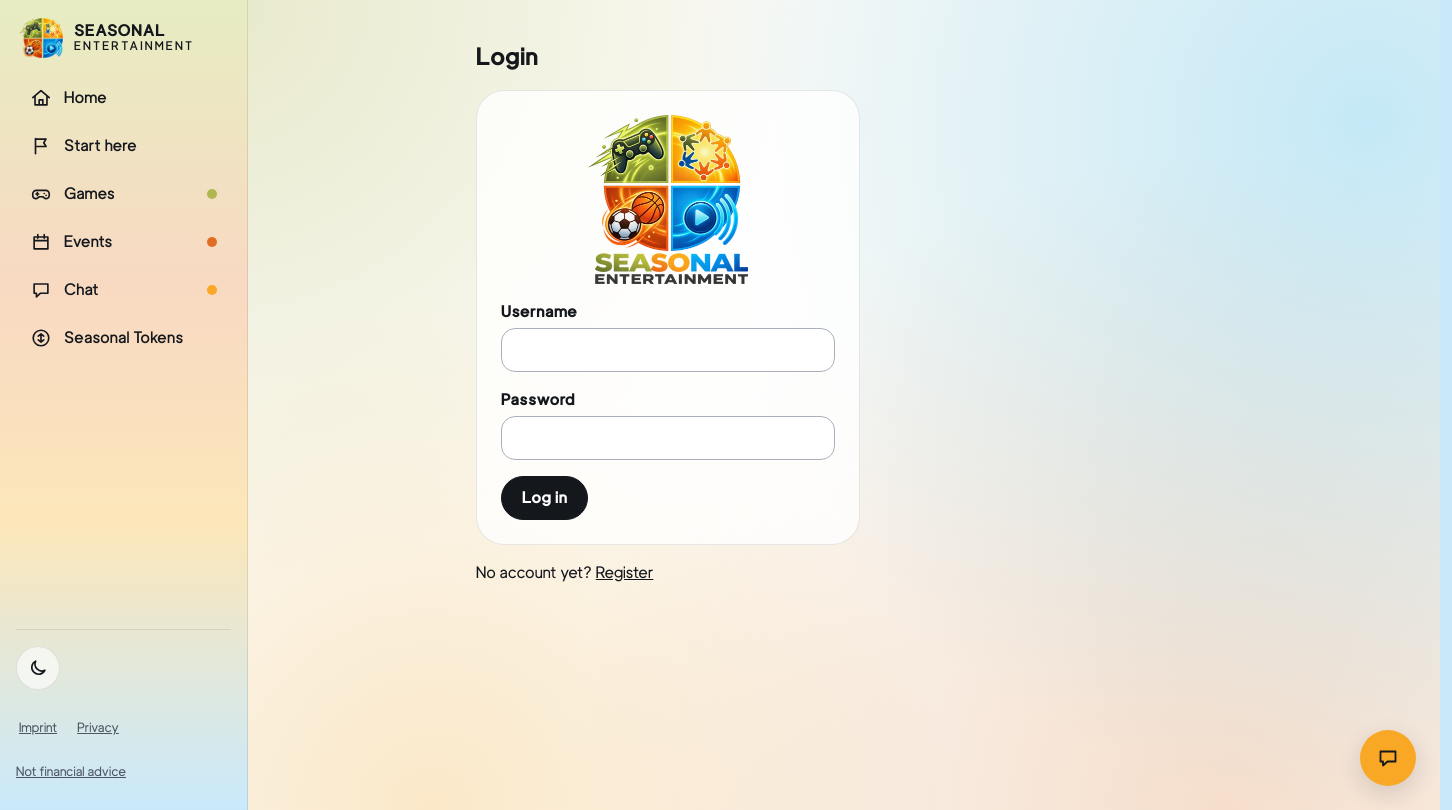
Test: 2FA for every member › a member who need not goes back where they came from
Type "mia" into the field labelled "Username" at (668, 350), box [501,328,835,372]
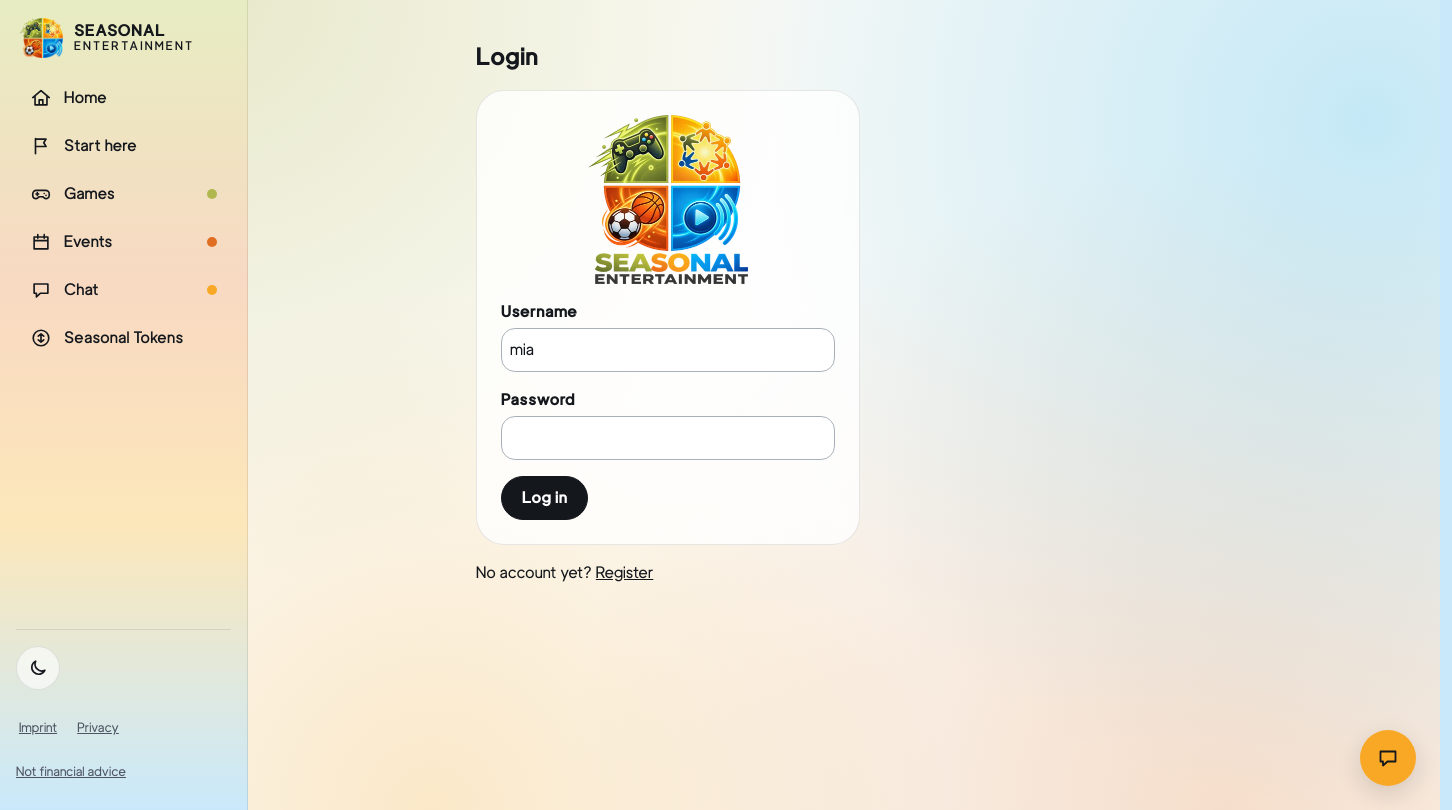
Type "correct-horse-1" into the password field labelled "Password" at (668, 438), box [501,416,835,460]
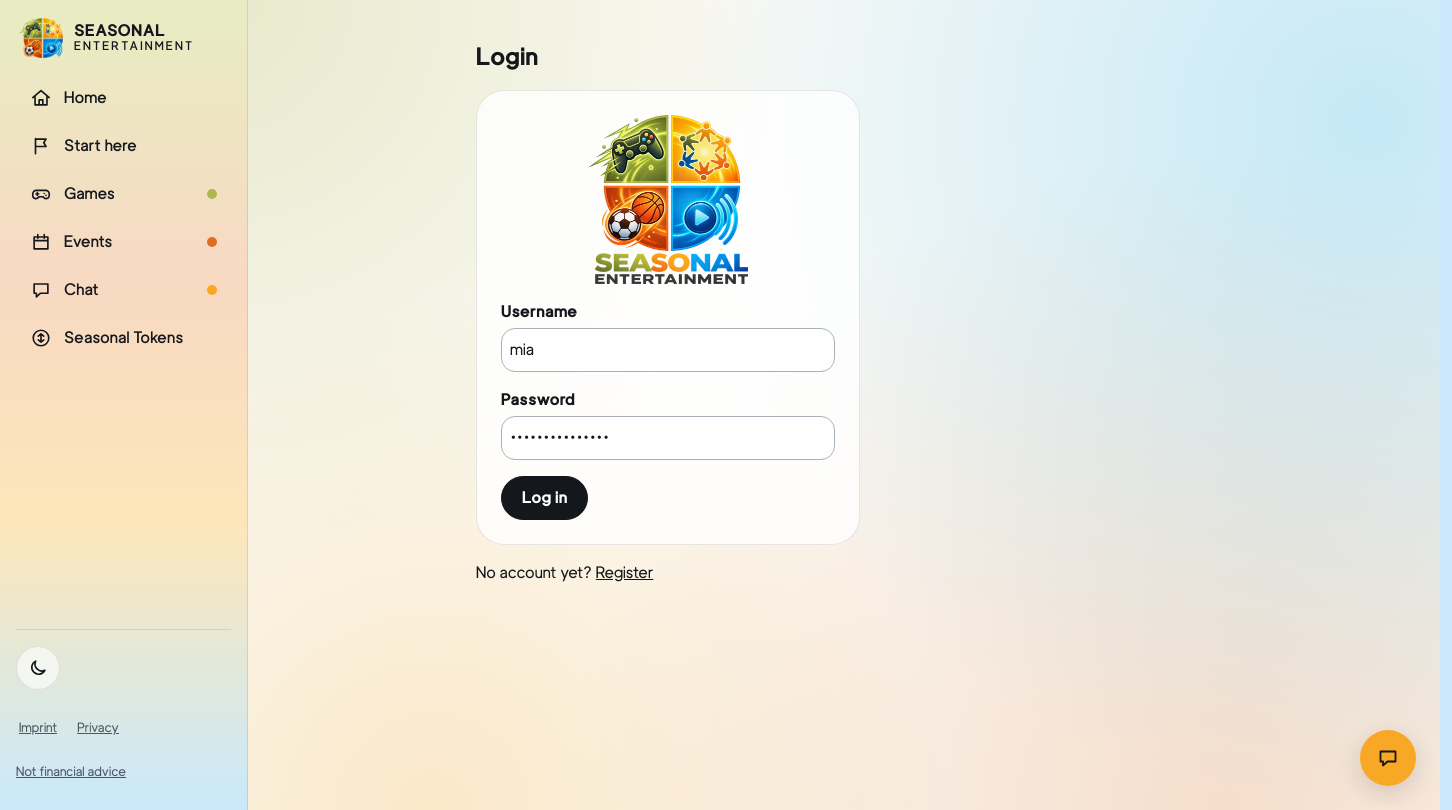
Click the button "Log in" at (545, 498), box [501,476,588,520]
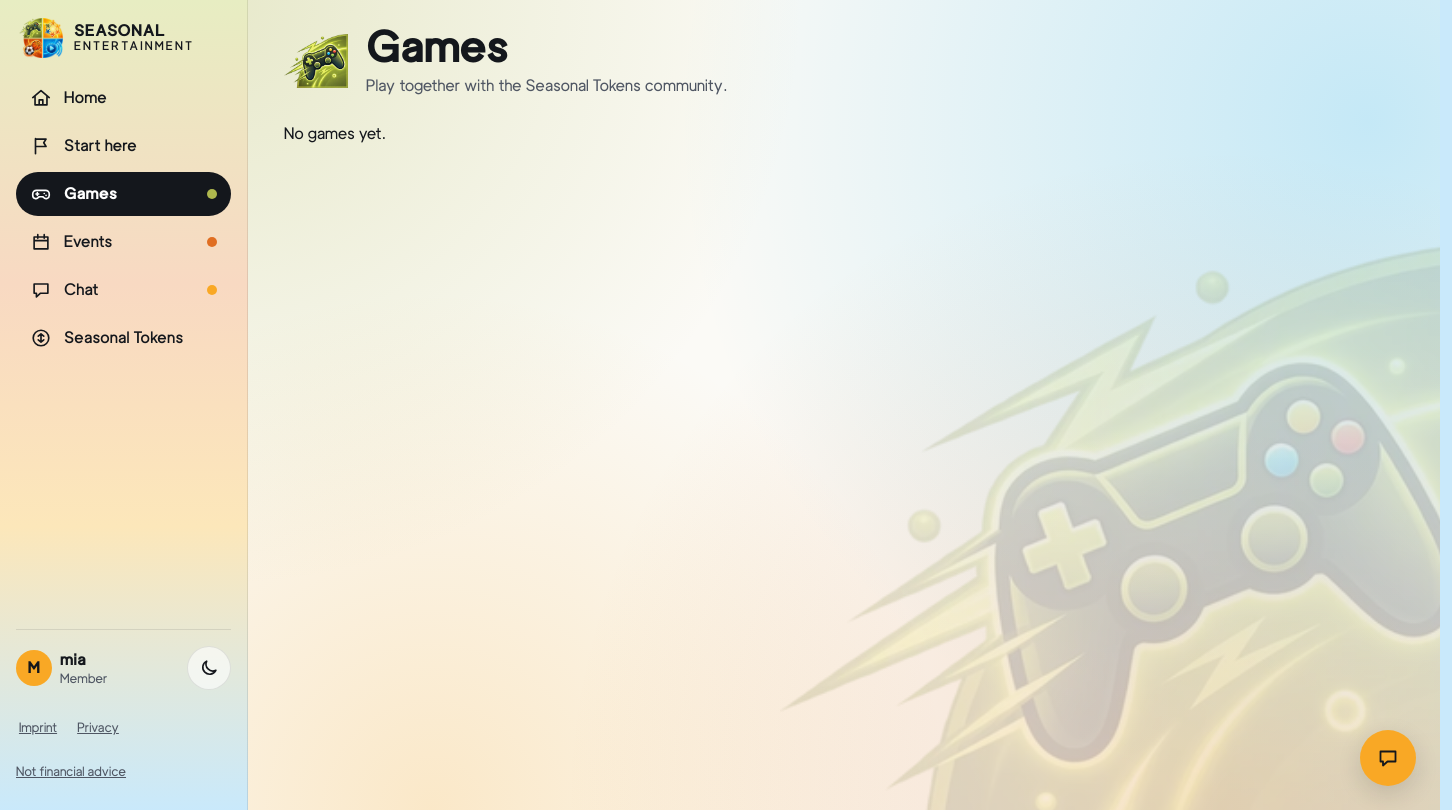
Expected: the heading "Games" is shown, [366,20,508,72]
